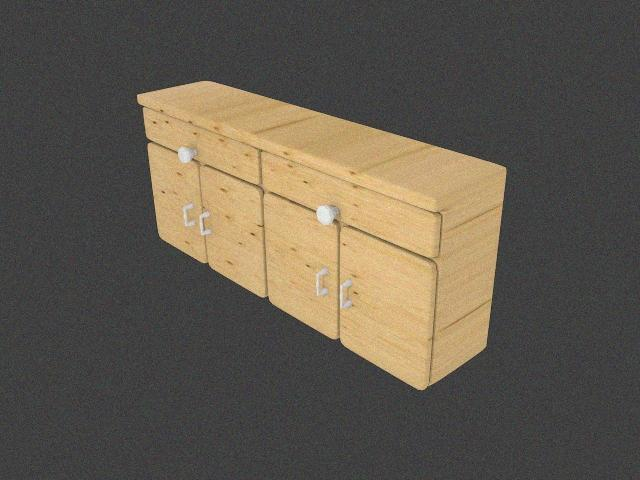cabinet_door: (340, 241, 426, 366), (266, 206, 340, 322), (262, 184, 432, 225), (202, 174, 266, 282), (153, 150, 202, 250), (145, 130, 262, 164)
handle: (312, 196, 345, 228), (336, 276, 358, 315), (171, 140, 201, 166), (311, 264, 331, 301), (178, 200, 196, 231)
